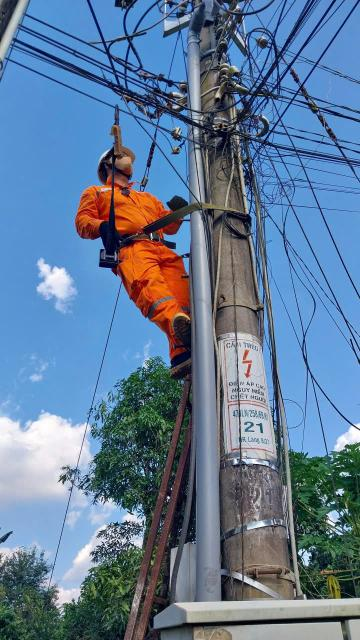gloves: (87, 218, 121, 249)
harness: (92, 223, 195, 257)
helmet: (82, 128, 146, 184)
shoes: (162, 345, 204, 382), (164, 309, 200, 348)
